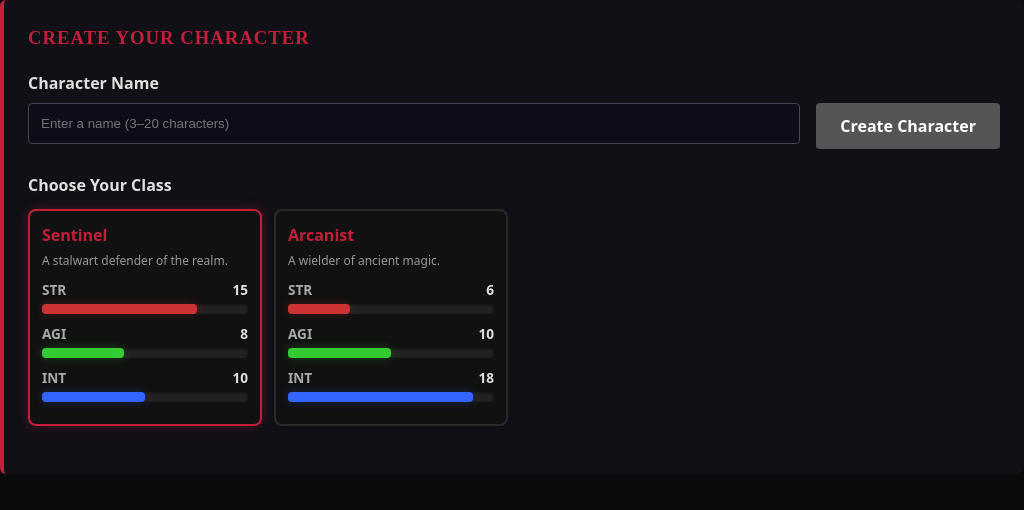
it: CharacterCreator › validates name — invalid characters
Expected: the button with test id "class-card-1" is shown, [28, 209, 262, 426]
In the field with placeholder "3.20 characters": (414, 123) [28, 103, 800, 144], type "Name@!"
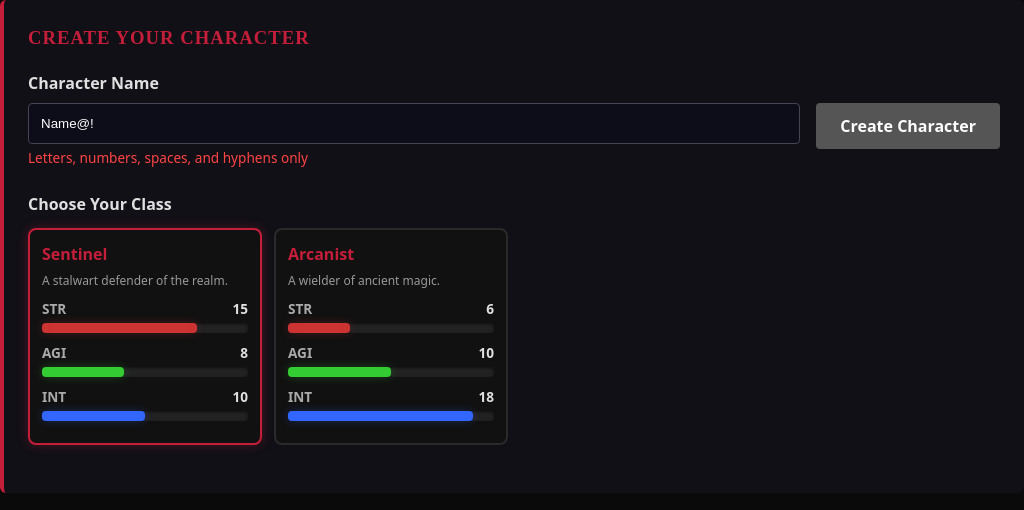
Now the text with test id "name-error" shows "hyphens only", box [28, 148, 308, 167]
